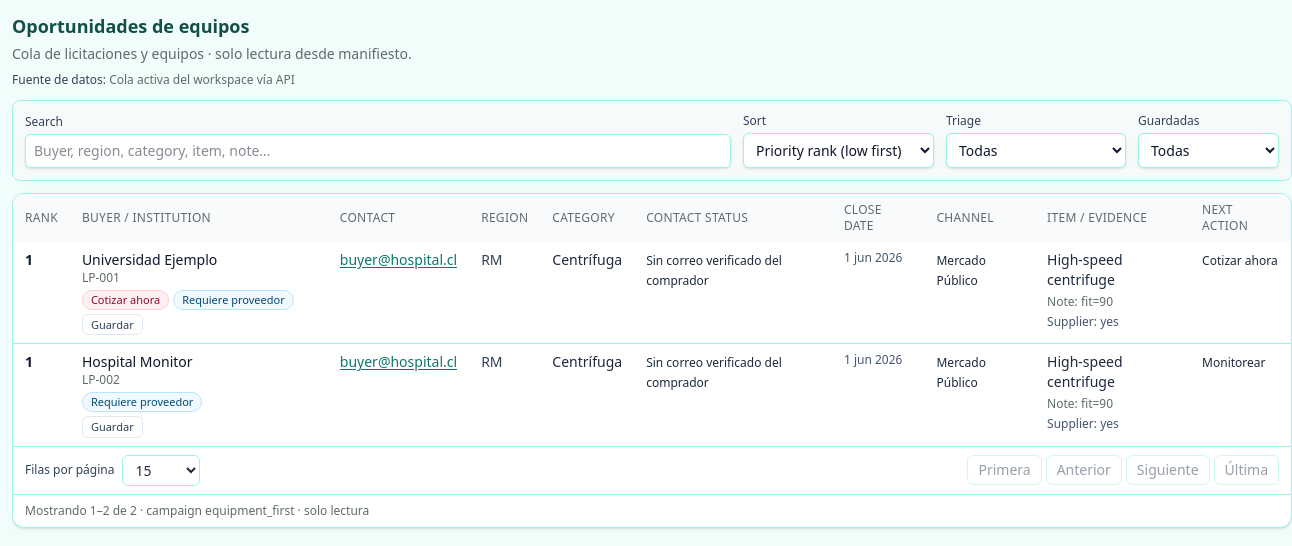
Test: EquipmentOpportunitiesTable › clear filters resets search and triage
In the search field named "Search equipment opportunities": (378, 151) x1=25 y1=134 x2=731 y2=168, type "ejemplo"
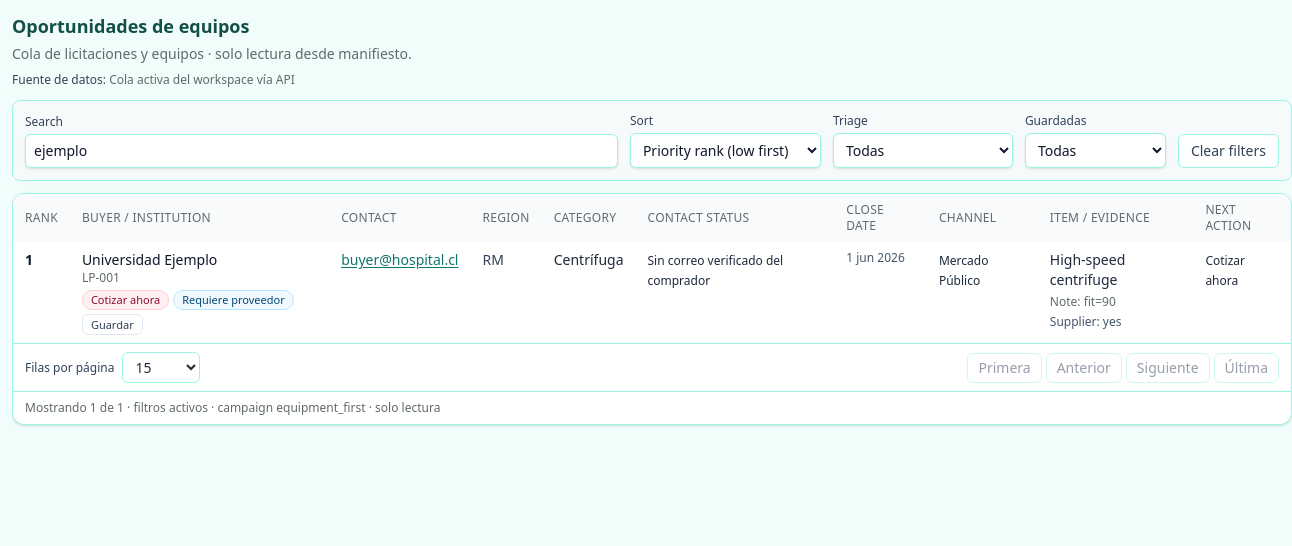
Select "Cotizar ahora" in the dropdown named "Filter equipment opportunities by triage": (923, 150) x1=833 y1=133 x2=1013 y2=168
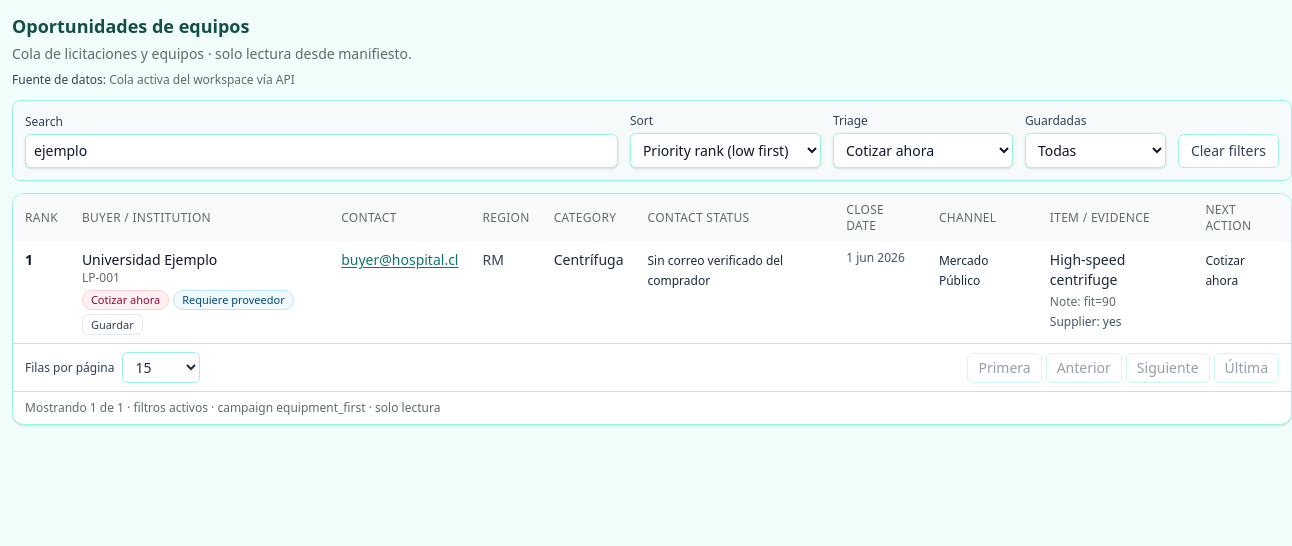
Check: the button "Hospital Monitor" is not shown
Click the button "Clear filters": (1228, 151) x1=1178 y1=134 x2=1279 y2=168
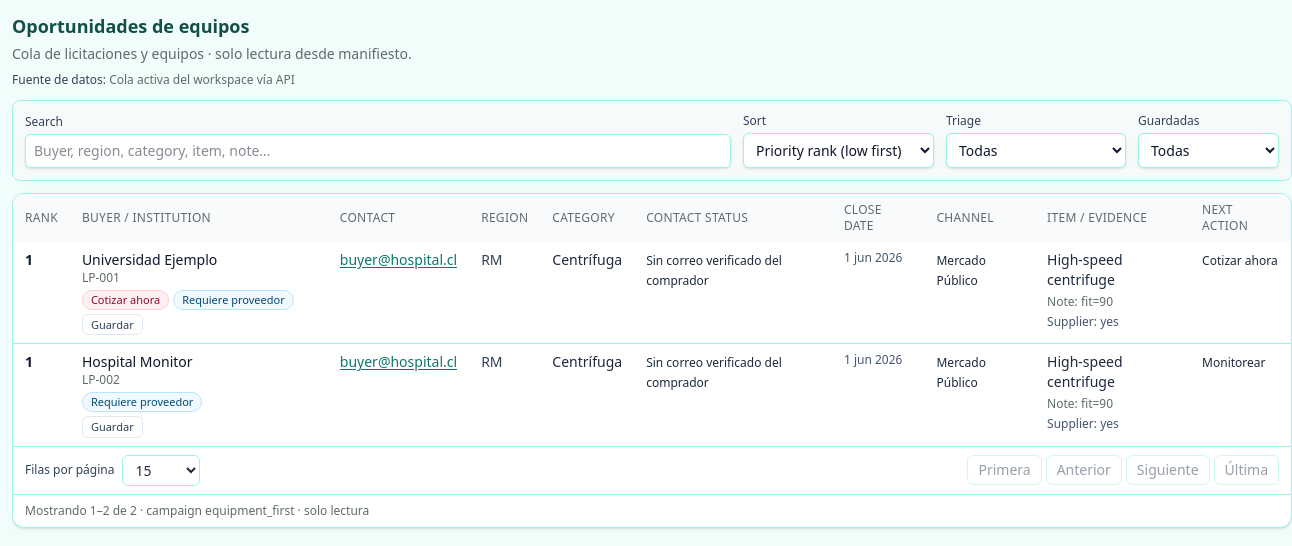
Check: the text "Universidad Ejemplo" is shown, box x1=82 y1=250 x2=217 y2=269
Check: the text "Hospital Monitor" is shown, box x1=82 y1=352 x2=193 y2=372
Check: the search field named "Search equipment opportunities" is empty, box x1=25 y1=134 x2=731 y2=168
